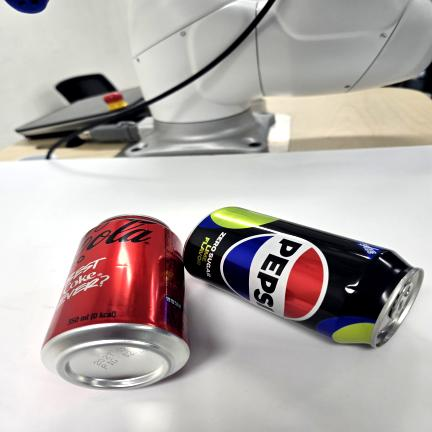can_coke_zero: (40, 216, 189, 392)
can_pepsi_zero: (186, 205, 419, 351)
